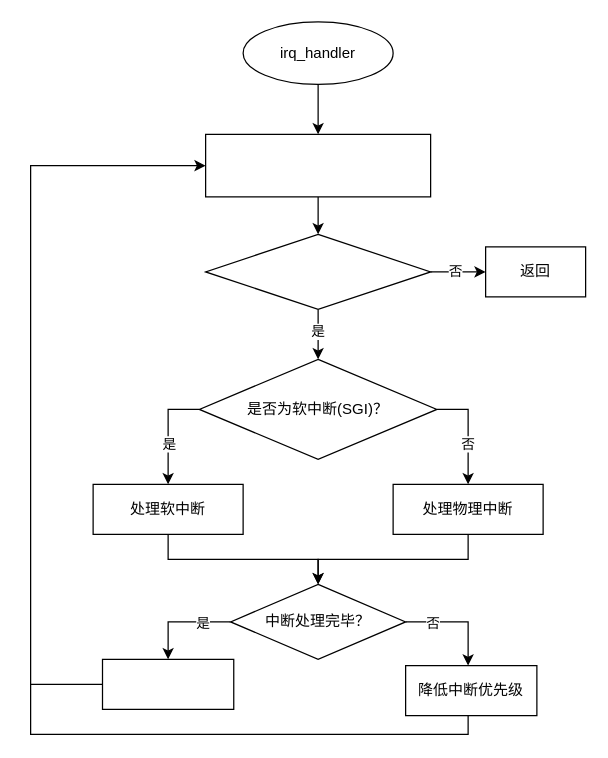
The diagram is 608 pixels wide and 758 high, and some of its shapes have lost their labels. The centre of each missing label's shape, as x and y in pixels:
"中断号是否有效？" belongs at [317,271].
"失能该中断" belongs at [167,683].
"读取中断号 get_irqn()" belongs at [317,165].
